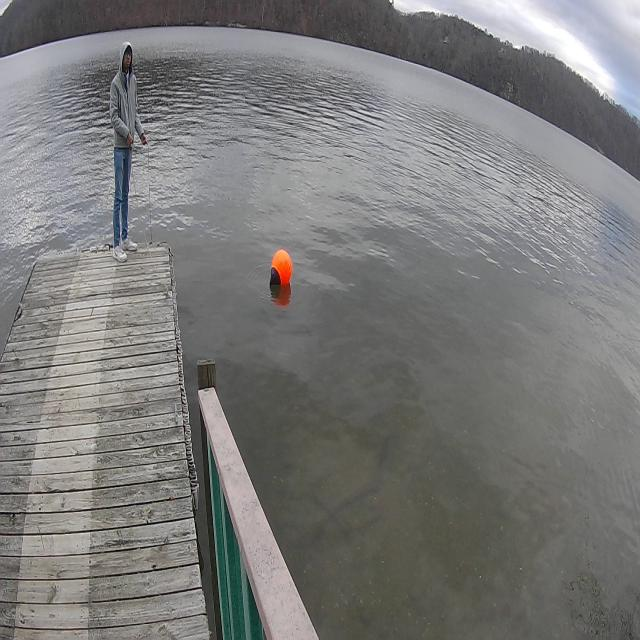Buoy: (269, 246, 294, 290)
